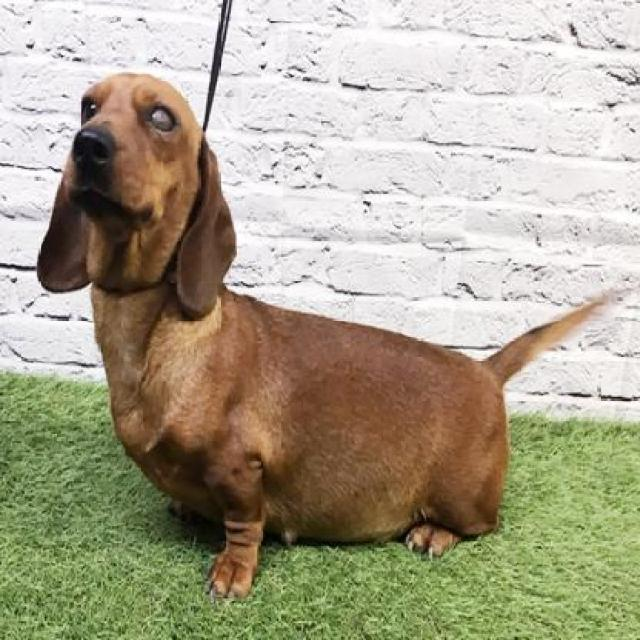Dog: (32, 68, 638, 609)
